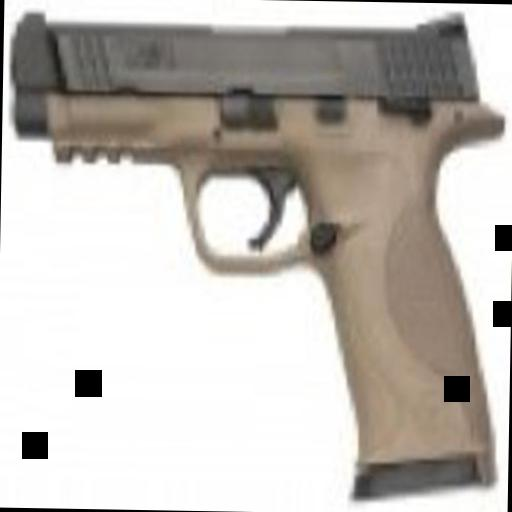Handgun: (7, 12, 505, 489)
